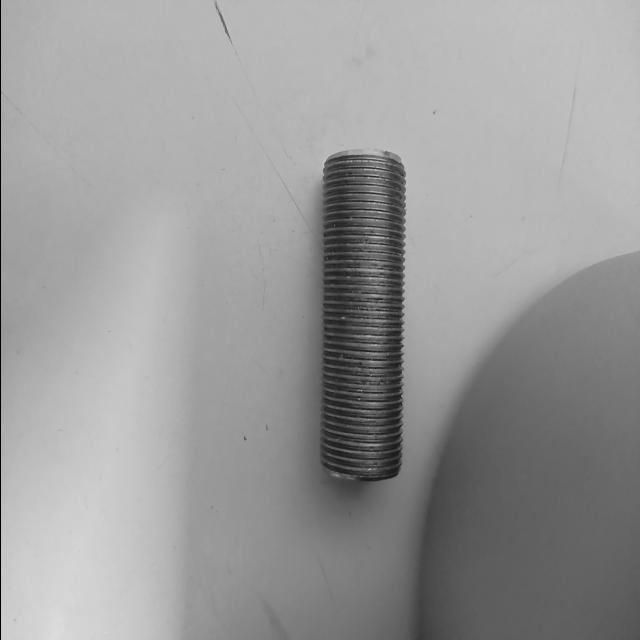Normal: (316, 146, 406, 482)
